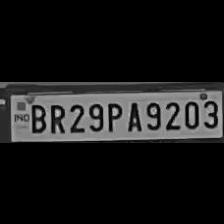0: (181, 97, 199, 129)
2: (66, 99, 86, 133), (162, 98, 180, 130)
3: (201, 96, 219, 128)
9: (142, 97, 162, 130), (86, 98, 104, 132)
A: (124, 98, 142, 132)
B: (27, 100, 46, 132)
P: (104, 98, 122, 132)
R: (47, 100, 65, 134)
